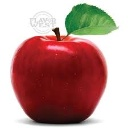apple: (11, 27, 108, 125)
